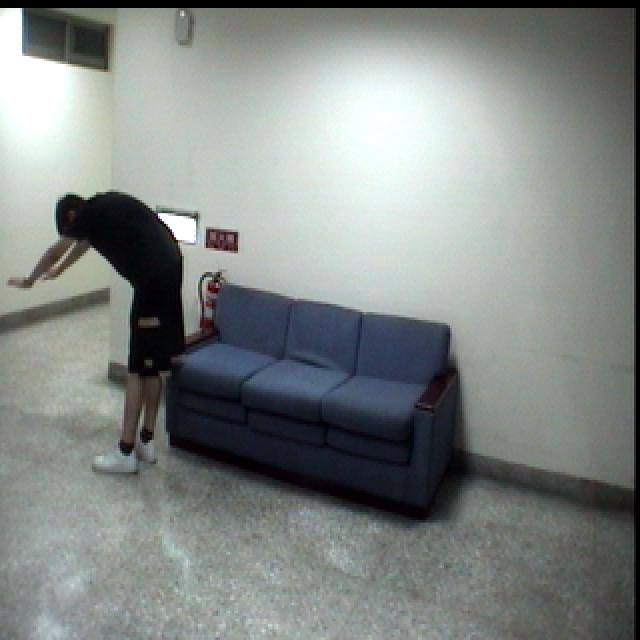bend: (5, 187, 194, 484)
